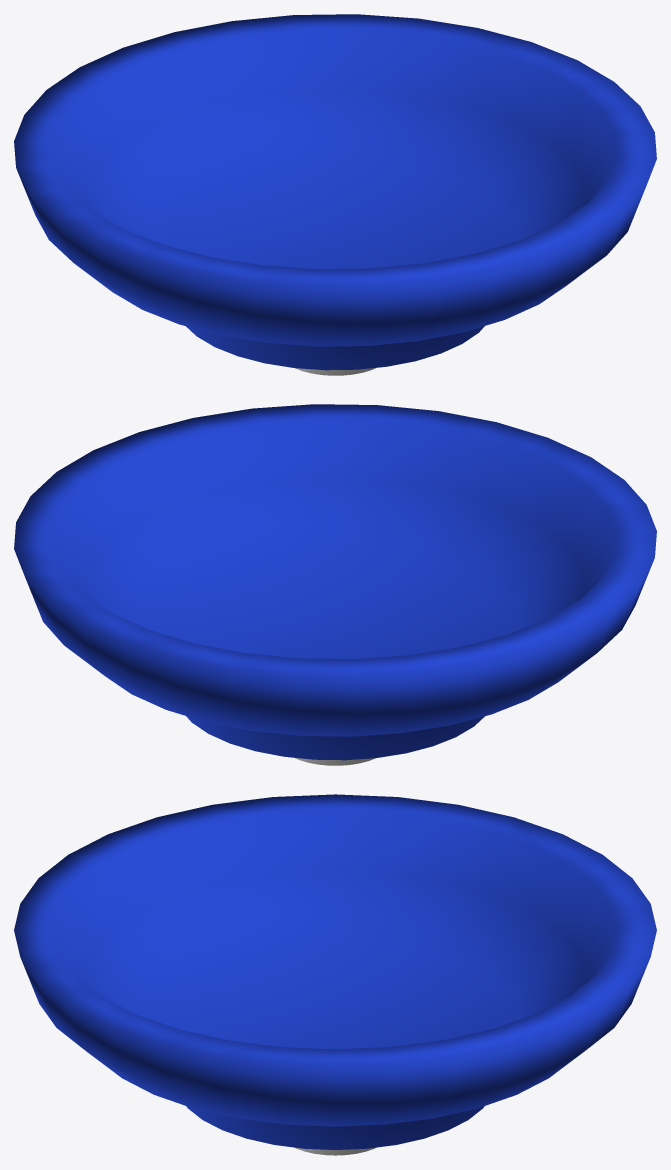
Rendered from cupUDKFeb2013.fbx.
The picture shows the model from 3 angles, top to bottom: view 1: azimuth 30°, elevation 25°; view 2: azimuth 150°, elevation 25°; view 3: azimuth 270°, elevation 25°; orthographic projection.
Parts seen in each view (by area): view 1: Mesh; view 2: Mesh; view 3: Mesh.
Part boxes in pixels (x1,y1,x2,y2): Mesh: [14, 14, 656, 375]; Mesh: [14, 404, 656, 765]; Mesh: [14, 794, 656, 1155].
Size of the model in its own units: 22.18 by 7.69 by 22.18.
